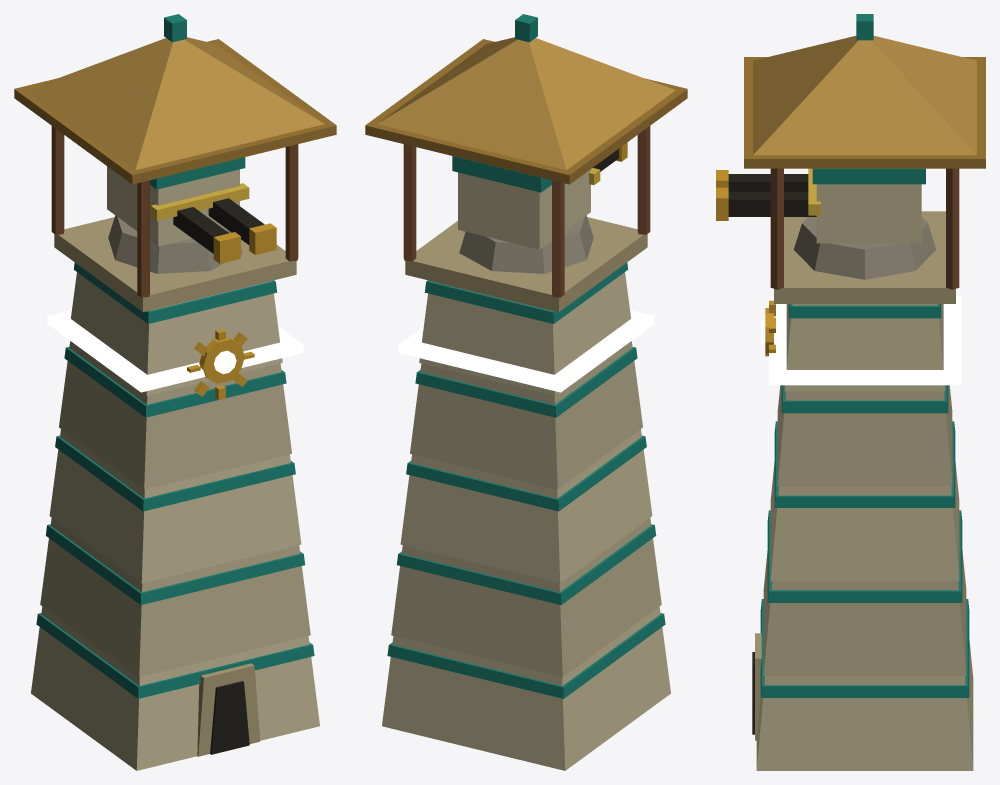
The model's file is tower_t4.glb.
3 renders of one model, left to right at view 1: azimuth 30°, elevation 25°; view 2: azimuth 150°, elevation 25°; view 3: azimuth 270°, elevation 25°, orthographic. The views are drawn at different scales.
Parts seen in each view (by area): view 1: body, part_turret, glow; view 2: body, part_turret, glow; view 3: body, part_turret, glow.
Part boxes in pixels (x1,y1,x2,y2): body: [14, 14, 336, 770]; part_turret: [107, 157, 276, 273]; glow: [47, 310, 303, 392]; body: [365, 14, 687, 770]; part_turret: [452, 142, 627, 273]; glow: [398, 310, 654, 392]; body: [744, 14, 985, 770]; part_turret: [716, 168, 936, 279]; glow: [761, 296, 961, 385].
Bounding box in the file's own units: 1.38 × 4.46 × 1.54.
